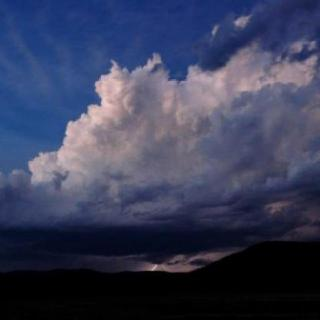Cumulonimbus: (3, 0, 320, 247)
